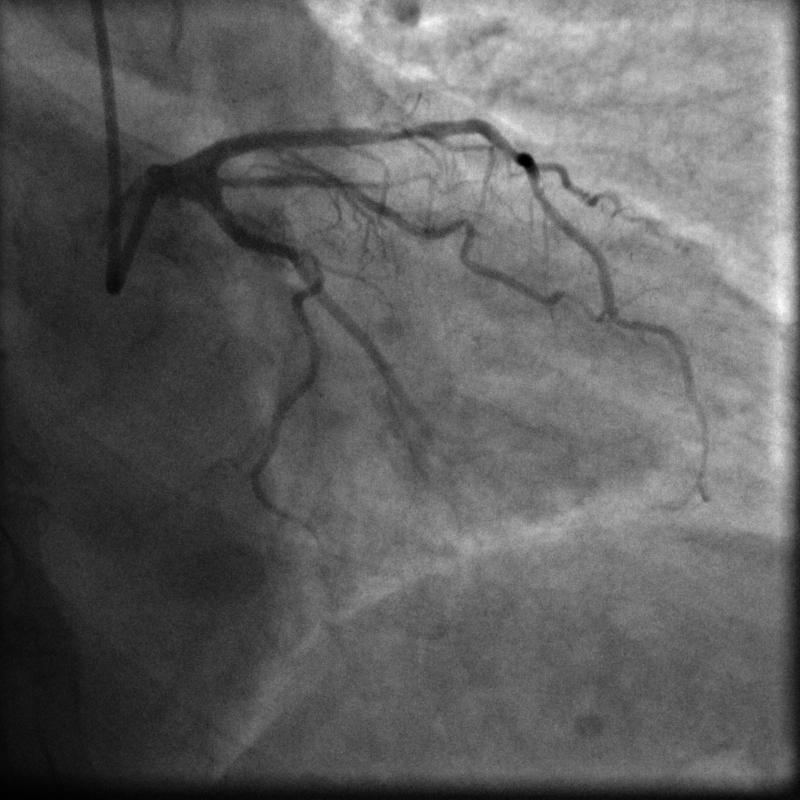Stenosis: (361, 121, 423, 144)
